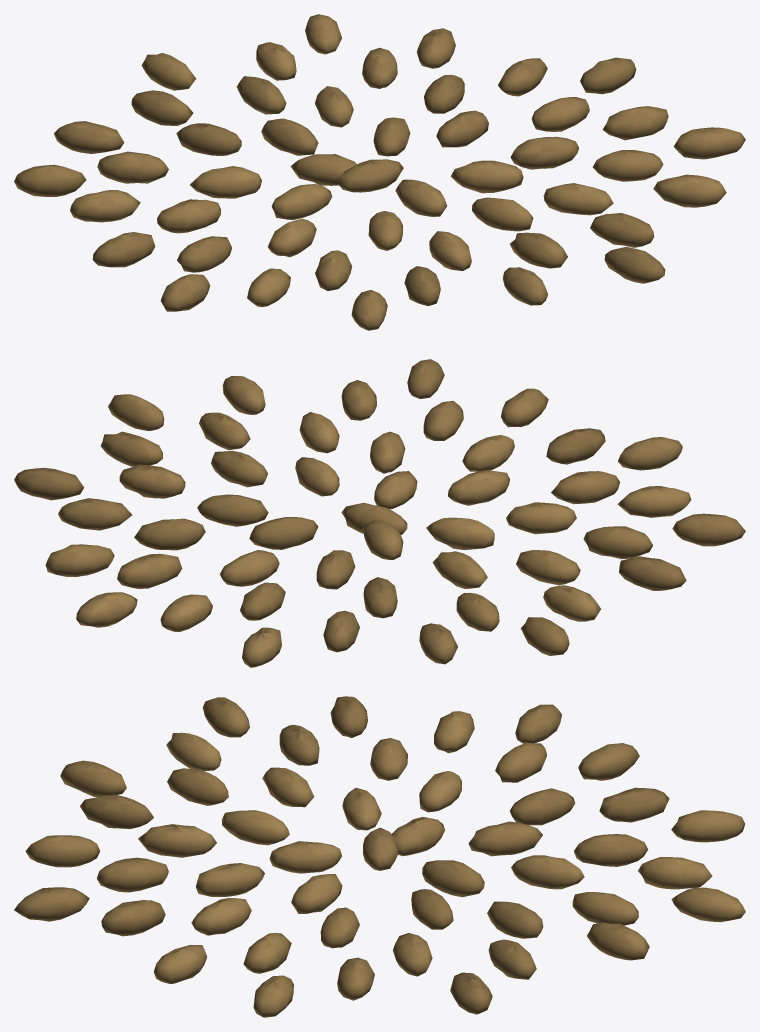
The model's file is Cumin.glb.
The picture shows the model from 3 angles, top to bottom: view 1: azimuth 30°, elevation 25°; view 2: azimuth 150°, elevation 25°; view 3: azimuth 270°, elevation 25°; orthographic projection. The views are drawn at different scales.
Parts seen in each view (by area): view 1: Cumin; view 2: Cumin; view 3: Cumin.
Boxes of the visible parts, <box> form: Cumin: <box>14,14,745,330</box>; Cumin: <box>14,359,745,667</box>; Cumin: <box>14,696,745,1017</box>.
Size of what is drawn, in the model's own units: 0.0637 by 0.00291 by 0.0631.
